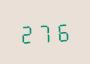seven: (36, 20, 52, 43)
six: (53, 19, 69, 42)
two: (18, 21, 34, 44)
